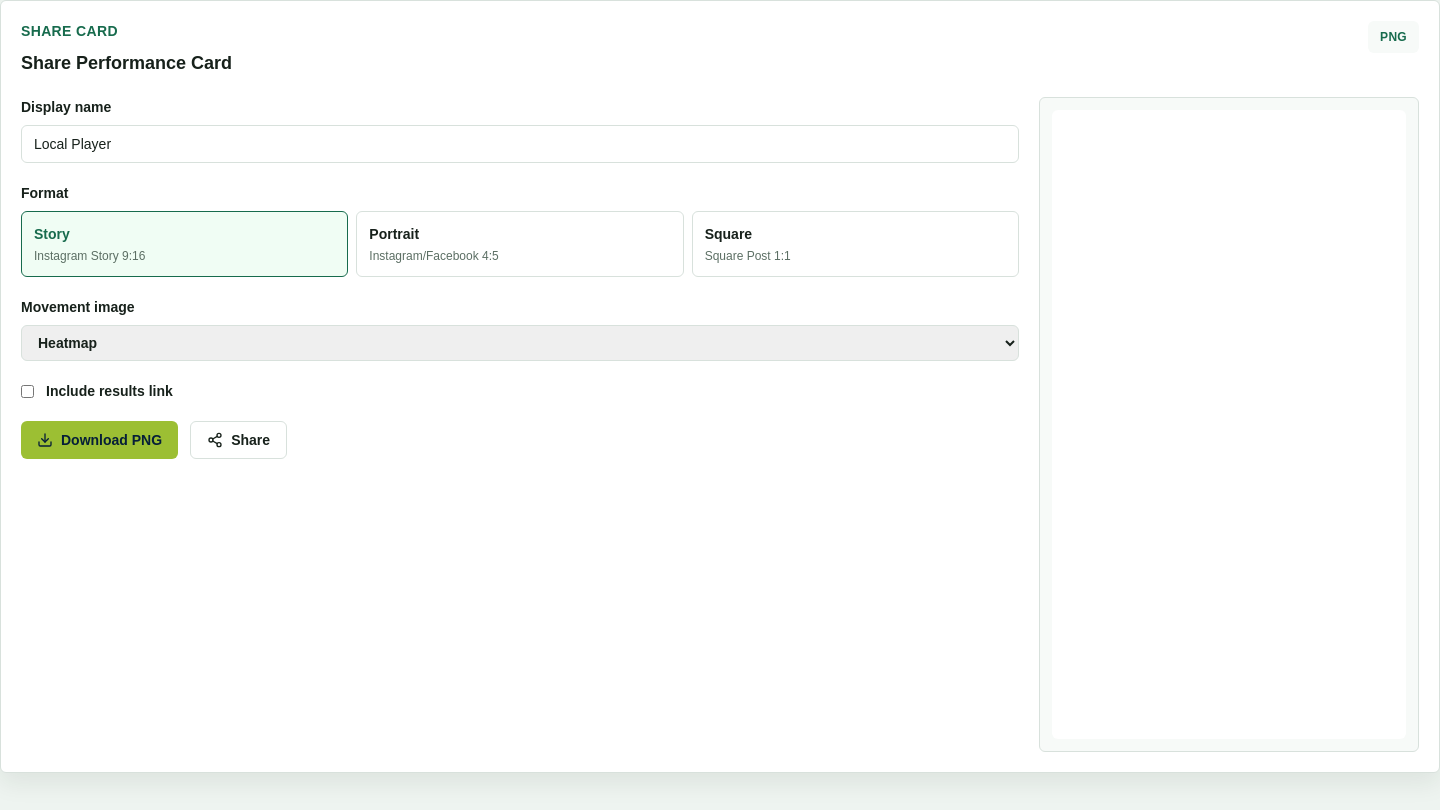
Test: share card panel › uses native file sharing when the browser supports it
This screenshot has width=1440, height=810.
Click the button "Share": (239, 440) [190, 421, 287, 459]
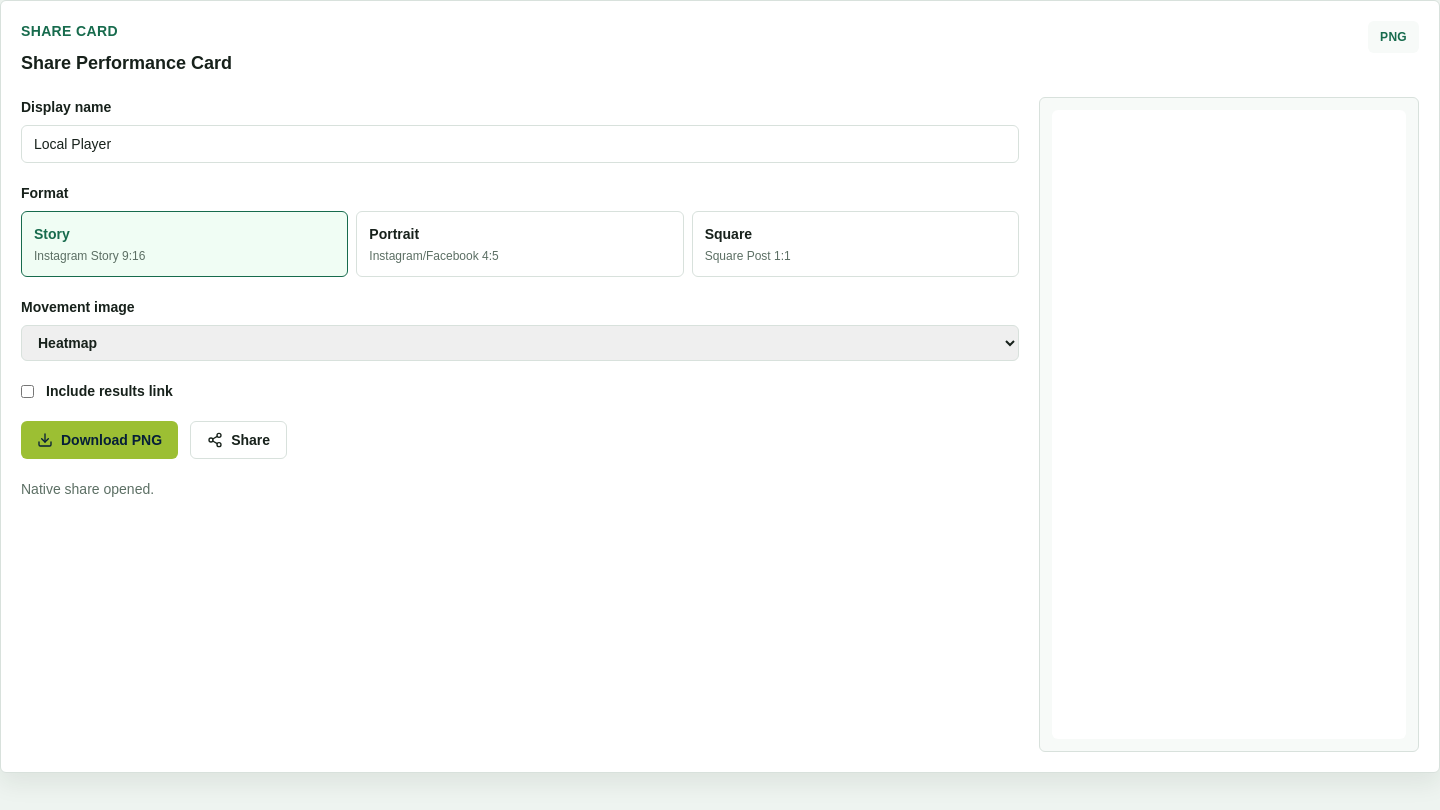
Expected: the text "Native share opened." is shown, [21, 481, 154, 497]
